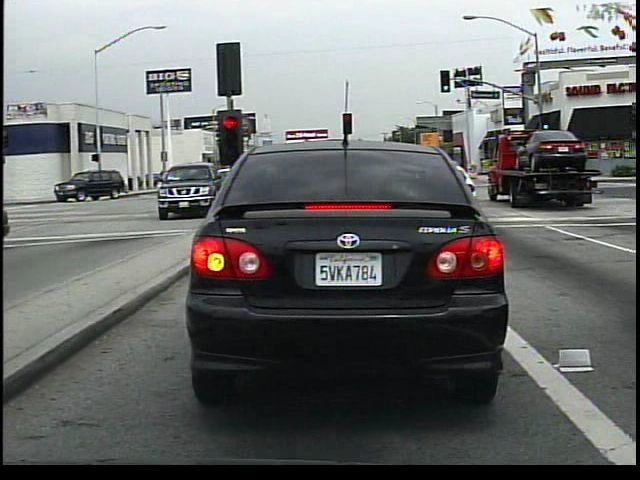person: (178, 172, 200, 198)
